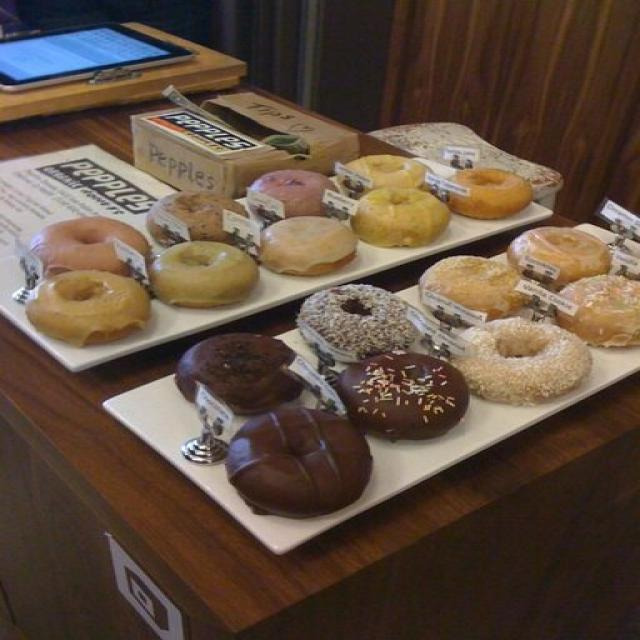Donuts: (3, 153, 639, 523)
